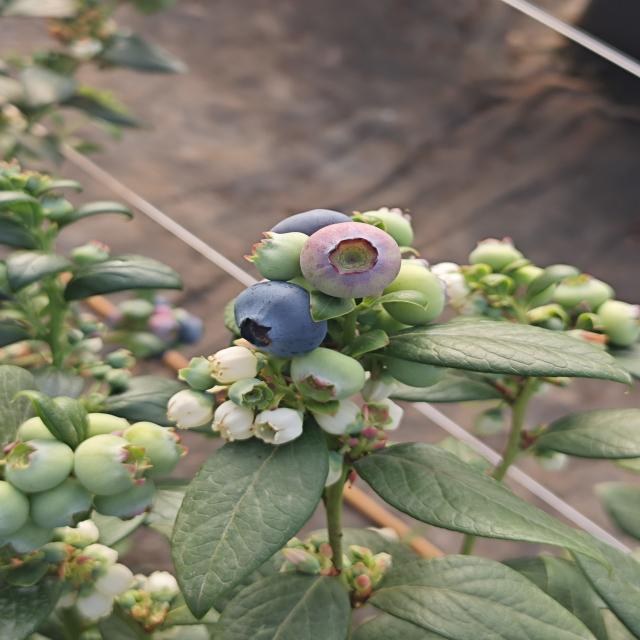ripe: (230, 279, 330, 360), (267, 204, 365, 252)
